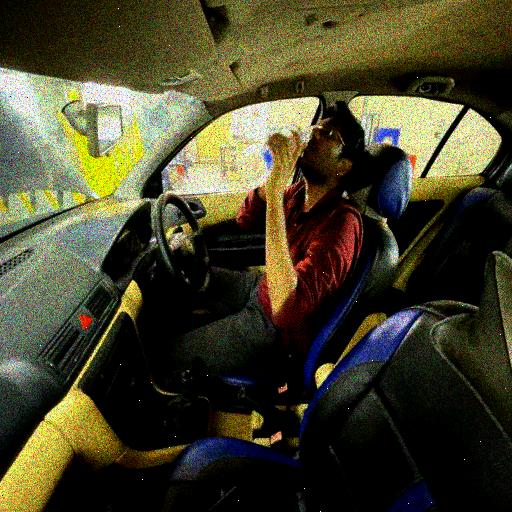Drinking: (219, 98, 371, 325)
